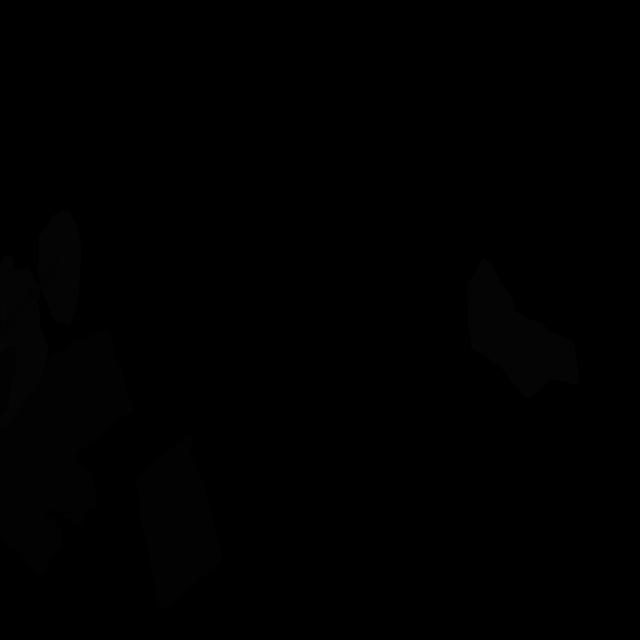cardboard: (0, 328, 133, 513), (136, 433, 222, 608), (0, 467, 62, 575), (0, 348, 15, 415), (60, 511, 86, 525)
metal: (0, 258, 61, 337)
soft_plastic: (467, 258, 578, 398), (0, 291, 48, 428), (37, 210, 81, 325), (0, 255, 37, 332)
